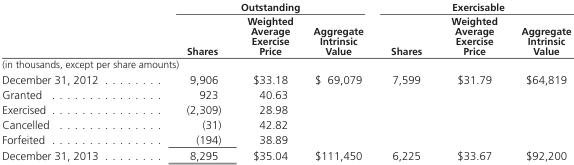table: (1, 0, 570, 161)
table column: (1, 0, 181, 161), (302, 0, 376, 161), (435, 0, 508, 161), (233, 0, 302, 161), (508, 0, 570, 161), (376, 0, 435, 161), (181, 0, 233, 161)
table column header: (1, 0, 570, 71)
table row: (1, 13, 570, 71), (1, 131, 570, 147), (1, 71, 570, 86), (1, 86, 570, 101), (1, 101, 570, 116), (1, 116, 570, 131), (1, 147, 570, 161), (1, 0, 570, 13)
table spanning cell: (1, 0, 181, 71), (181, 0, 376, 13), (376, 0, 570, 13)
